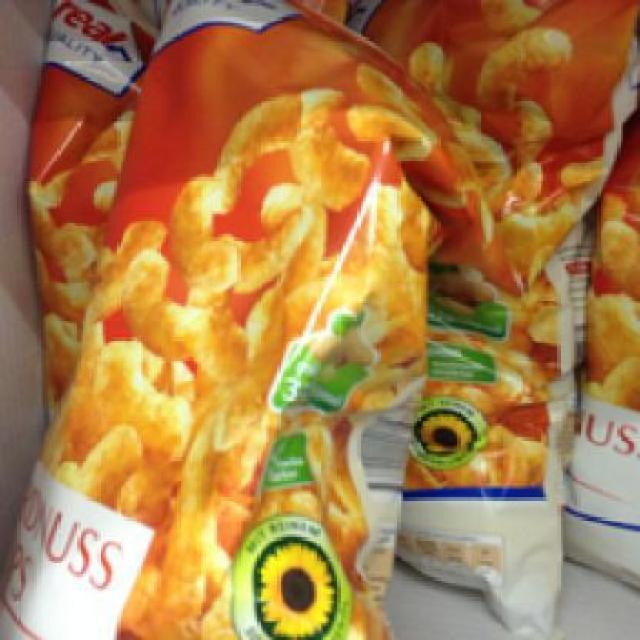Chips: (9, 1, 453, 637)
